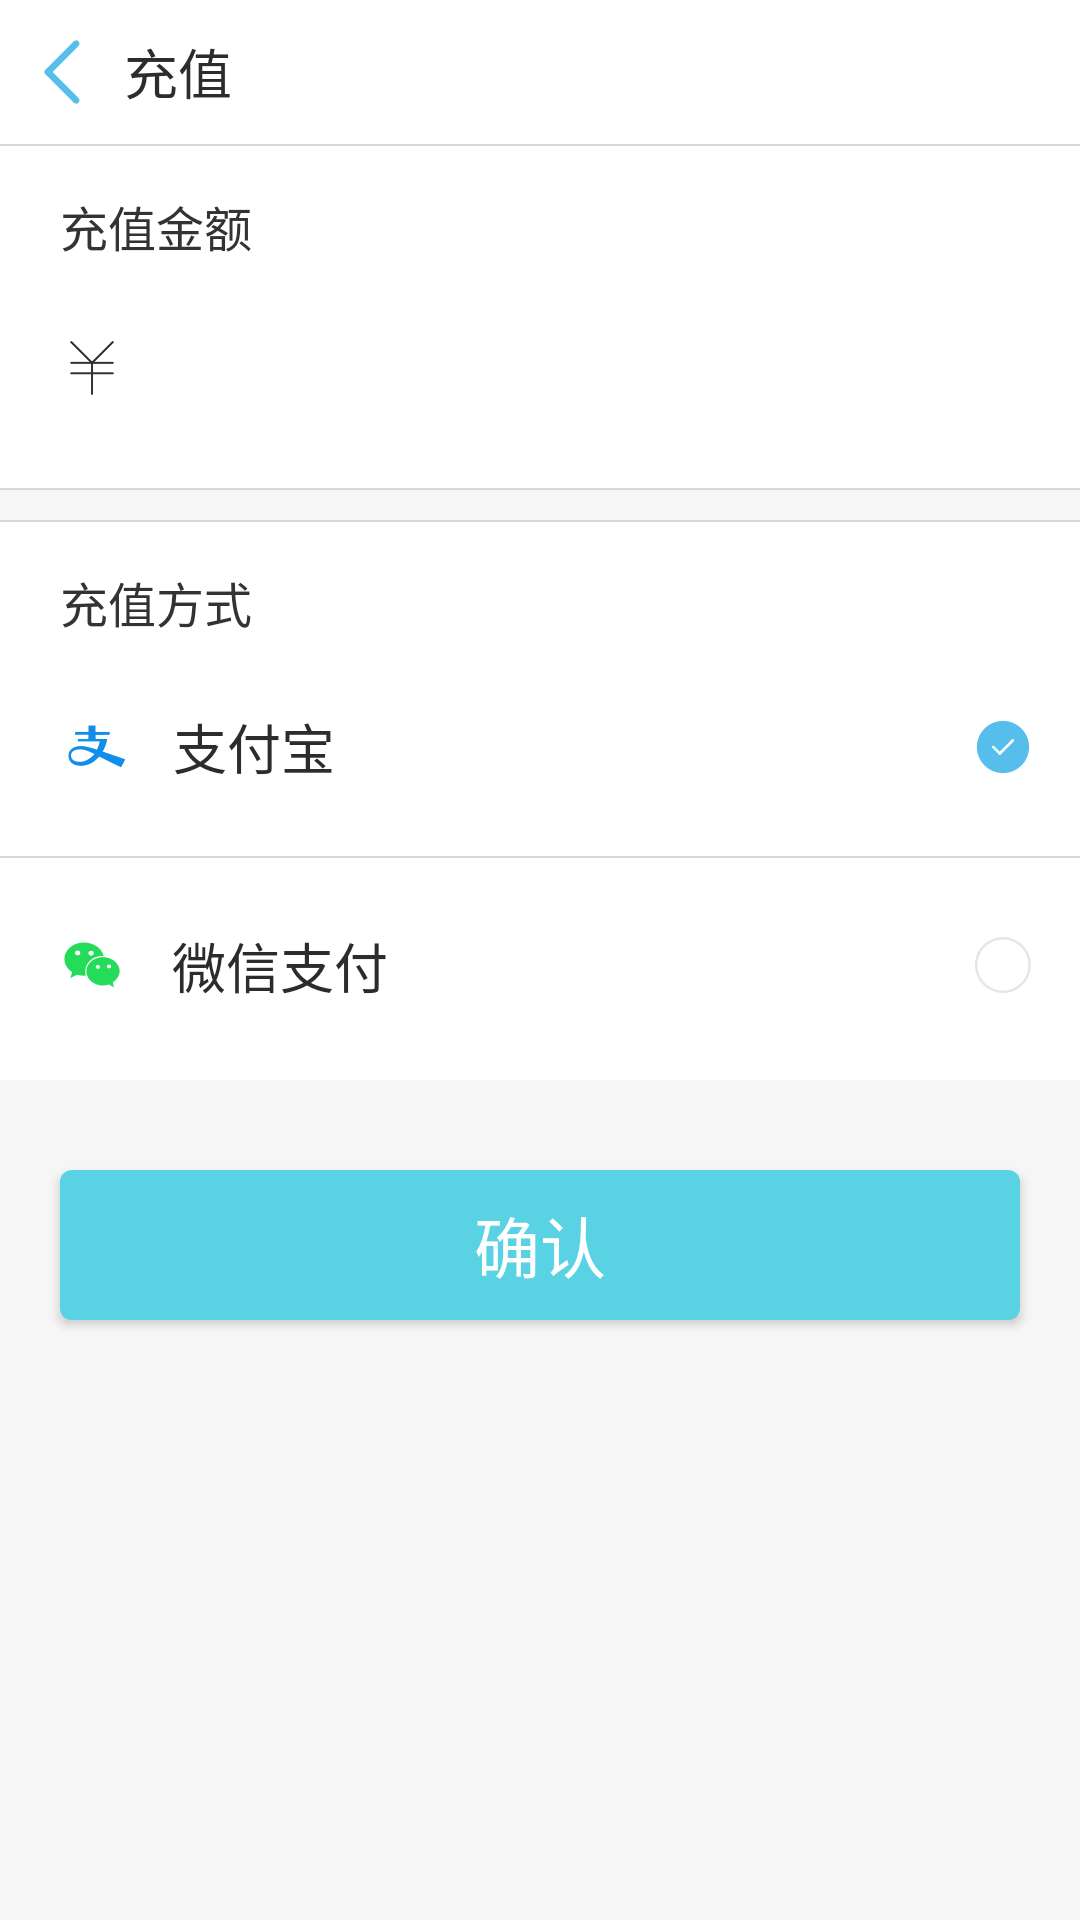

Where to tap for icons on this 1080px×1920px app screen, as [x,y]:
gou: [1003,747]
weigou: [1002,965]
人民币符号: [92,368]
返回图标: [62,72]
